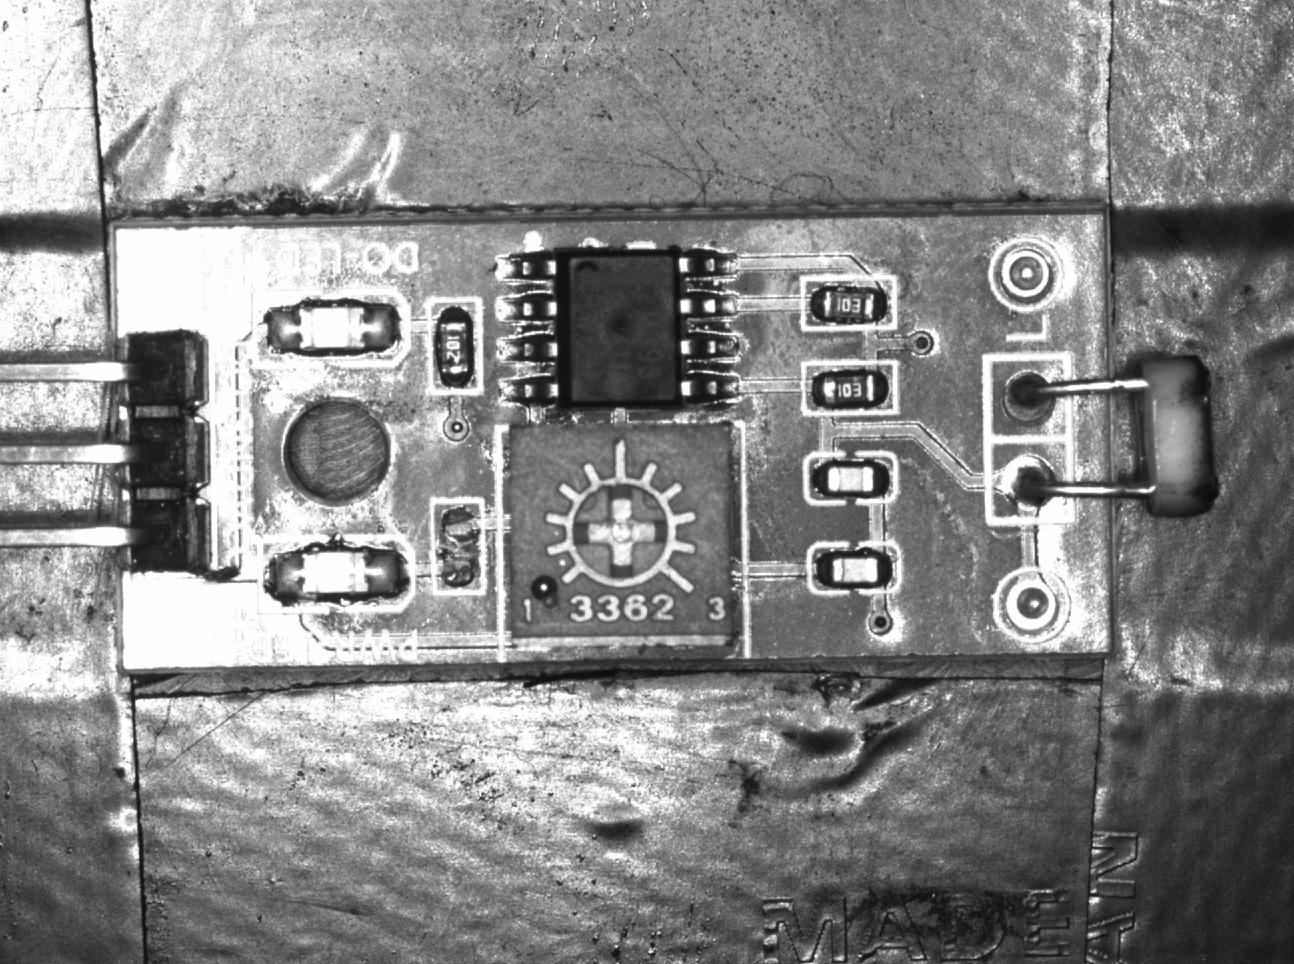miss: (430, 496, 488, 596)
ok: (420, 299, 488, 399), (799, 360, 899, 419), (805, 278, 899, 333), (805, 451, 896, 504), (808, 544, 903, 594)
